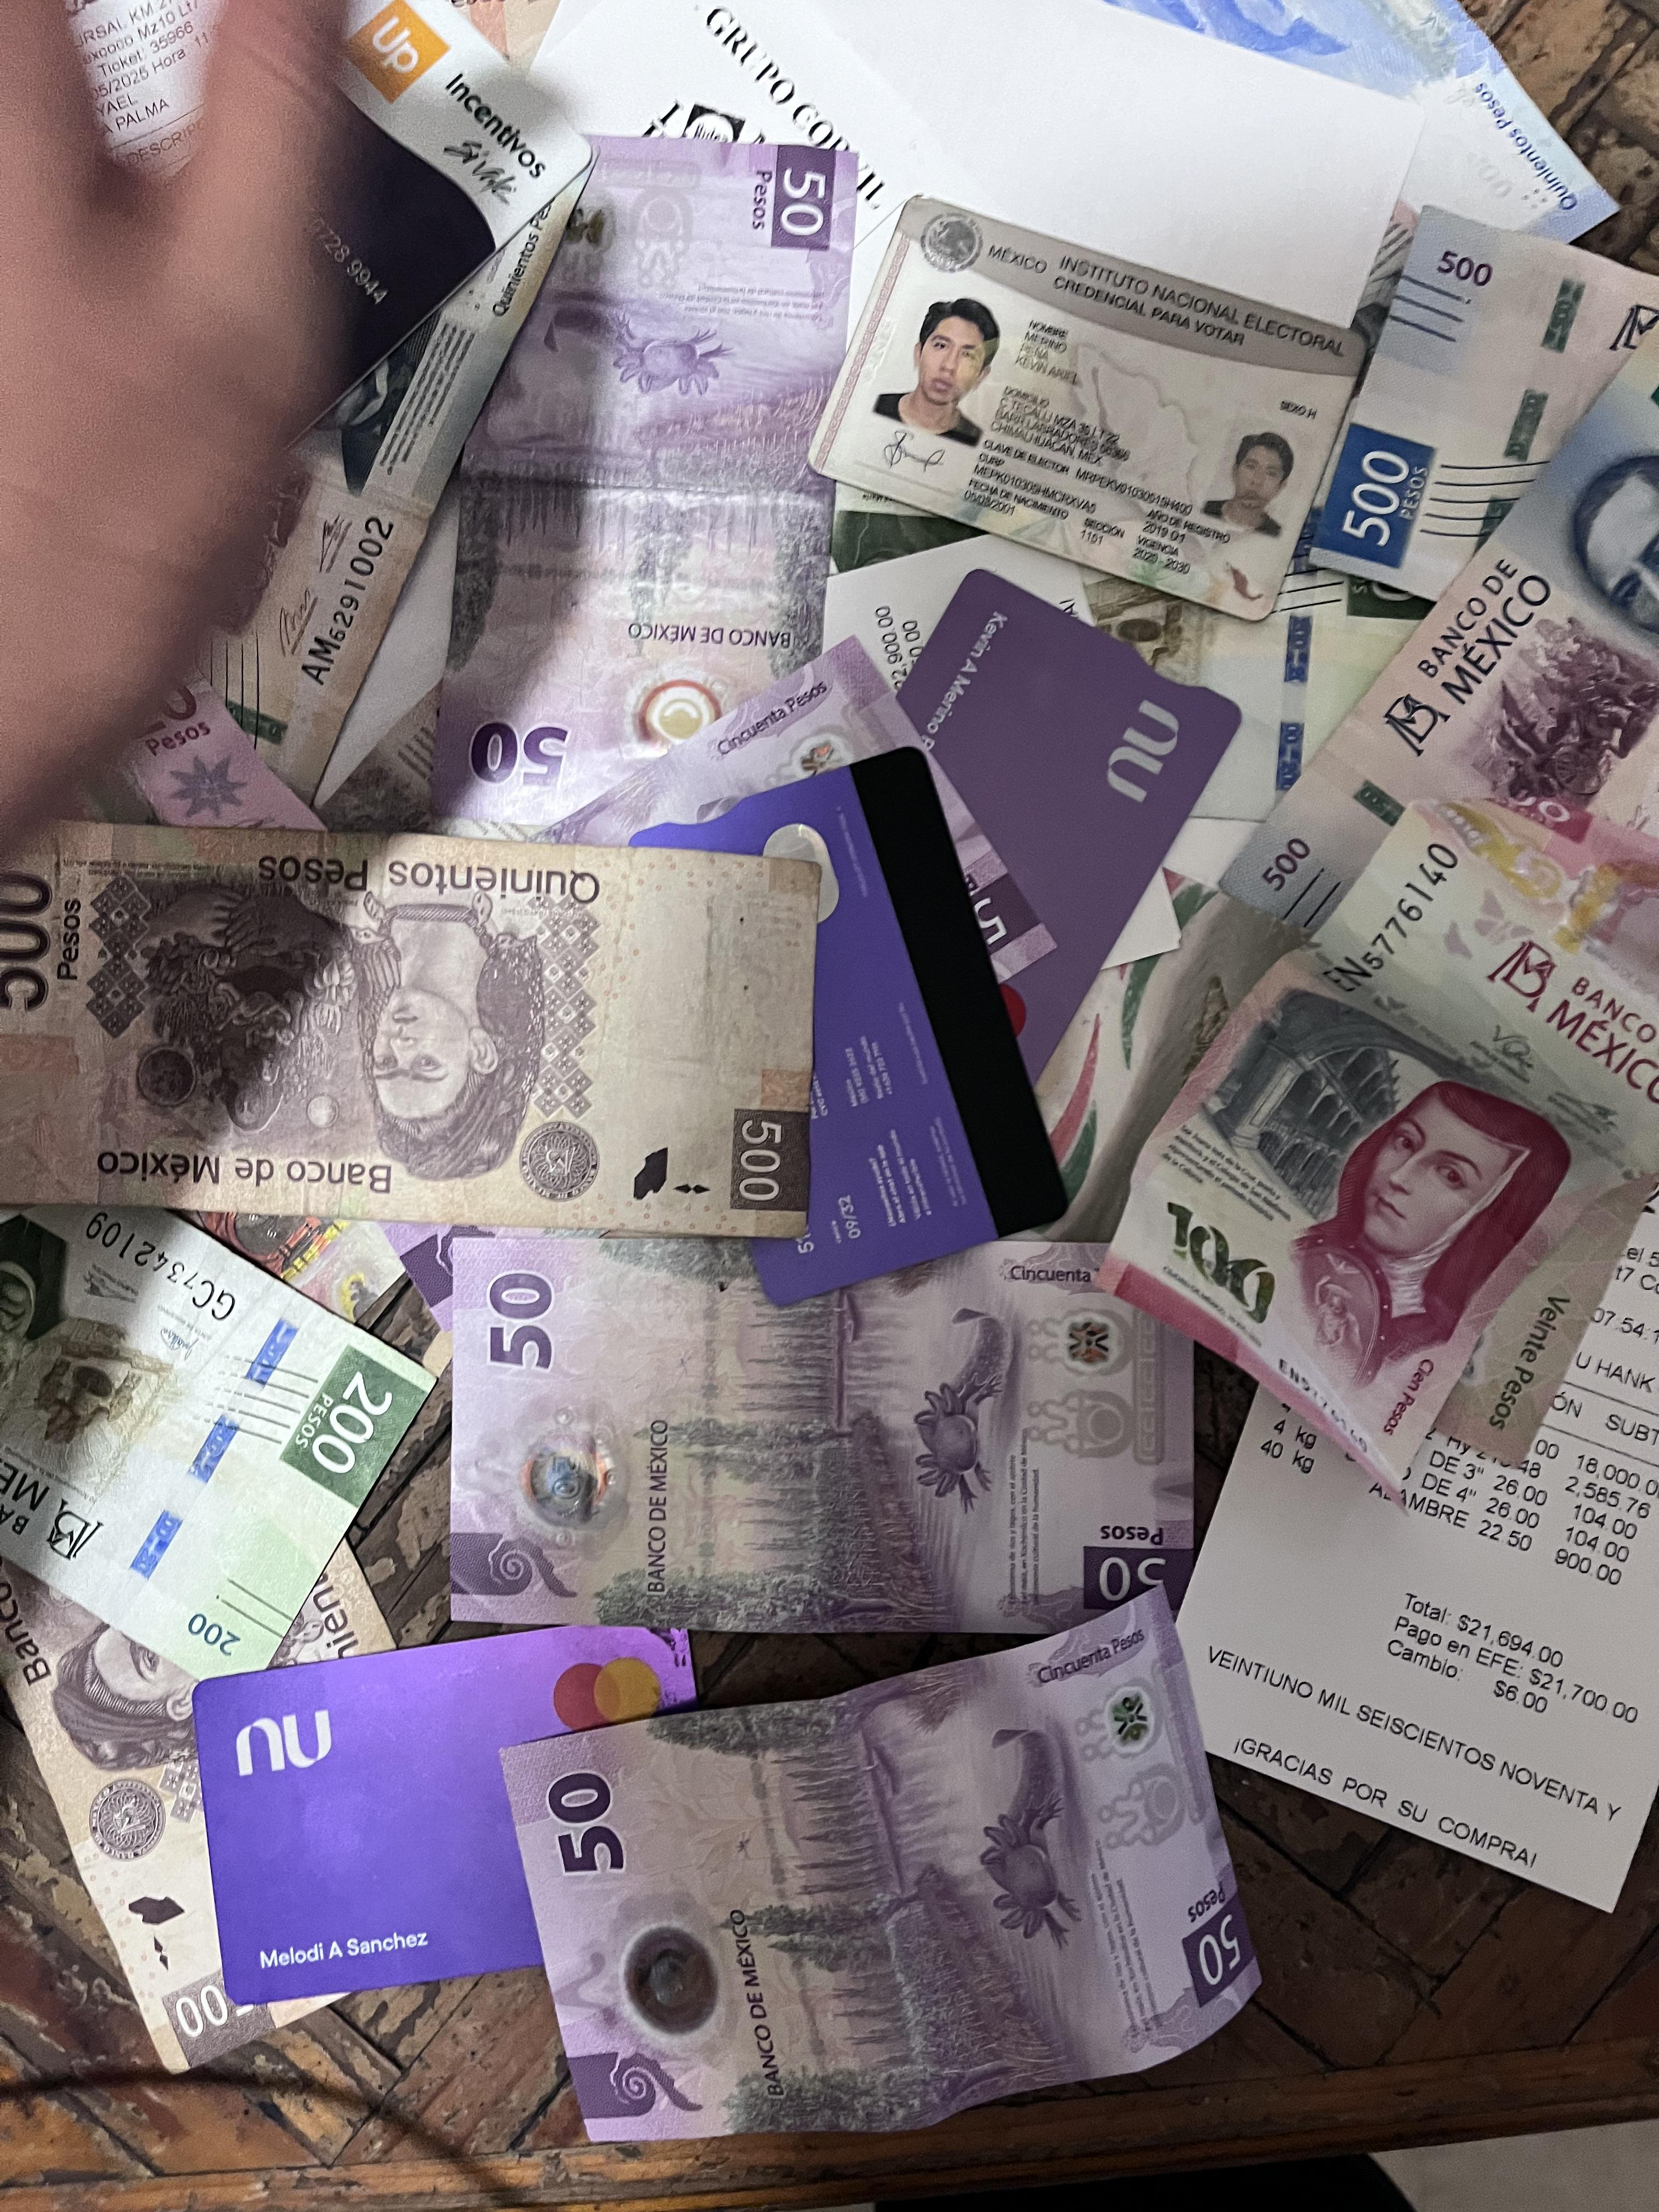100: (1079, 705, 1659, 1512)
200: (0, 1144, 439, 1710)
50: (467, 1562, 1309, 2158), (434, 1233, 1227, 1665), (462, 89, 868, 853), (474, 643, 1119, 1066)
500: (0, 801, 849, 1258), (0, 1472, 484, 2081)
500 nuevo: (1129, 324, 1659, 949), (1314, 207, 1659, 606)
